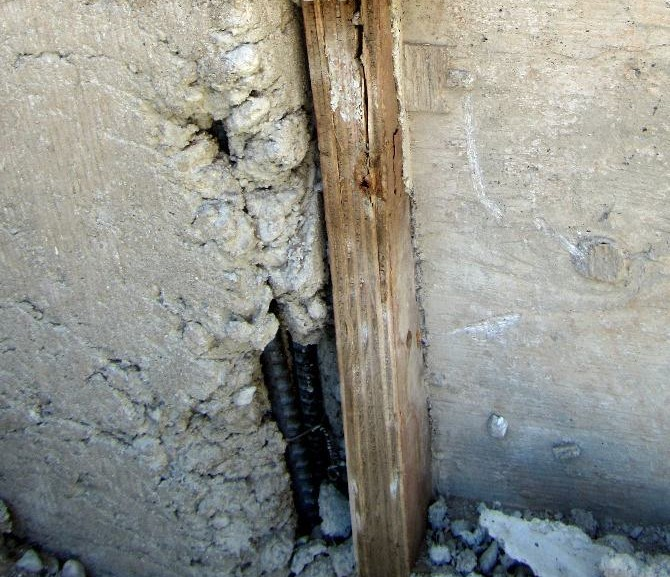Exposed reinforcement: (258, 296, 318, 531), (284, 327, 342, 485), (206, 117, 231, 156)
Spalling: (1, 1, 358, 577)
